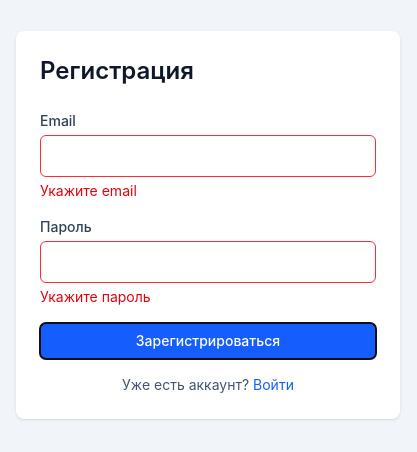
Test: Frontend › 37. Frontend показывает ошибки регистрации
Earlier steps of the test are not shown.
Expected: the text "Укажите email" is shown, [40,182,137,199]
Expected: the text "Укажите пароль" is shown, [40,288,151,305]
In the field labelled "Email": (208, 156) [40,135,376,177], type "12345"
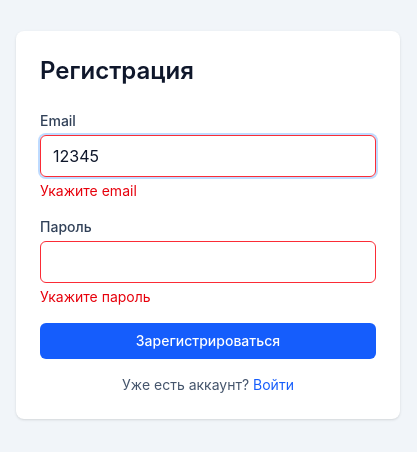
In the password field labelled "Пароль": (208, 262) [40,241,376,283], type "short"
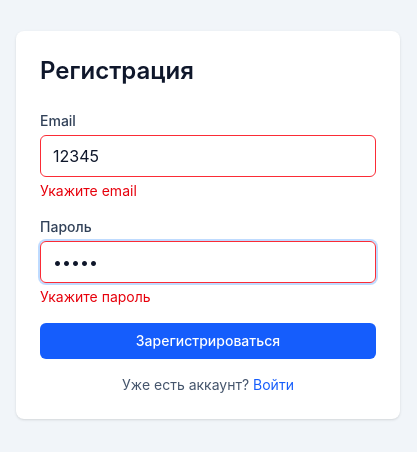
Click the button "Зарегистрироваться": (208, 341) [40,323,376,359]
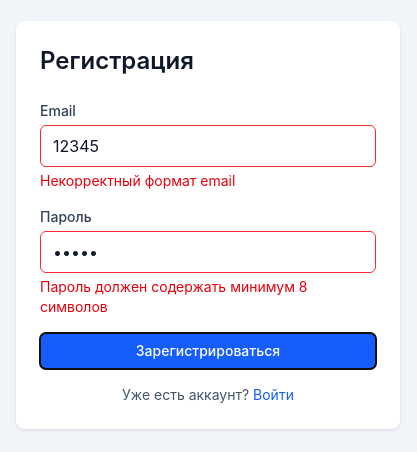
Result: the text "Некорректный формат email" is shown at [40,172,235,189]
Result: the text "Пароль должен содержать минимум 8 символов" is shown at [40,278,308,315]
Replace the text in the field labelled "Email" with "taken@example.com": (208, 146) [40,125,376,167]
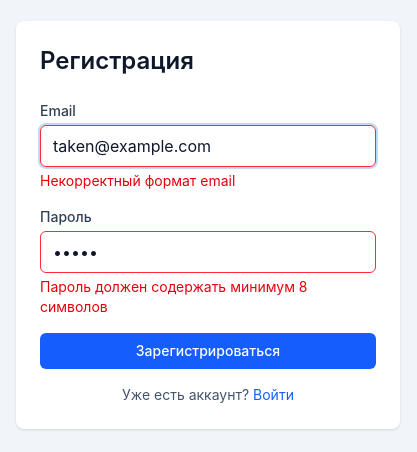
In the password field labelled "Пароль": (208, 252) [40,231,376,273], type "password123"
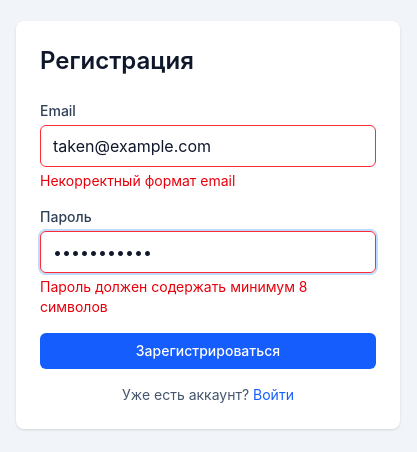
Click the button "Зарегистрироваться": (208, 351) [40,333,376,369]
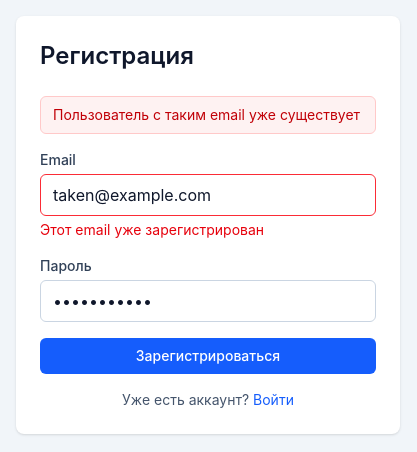
Result: the message reads "Пользователь с таким email уже существует" at [53,106,360,123]
Result: the text "Этот email уже зарегистрирован" is shown at [40,221,264,238]
